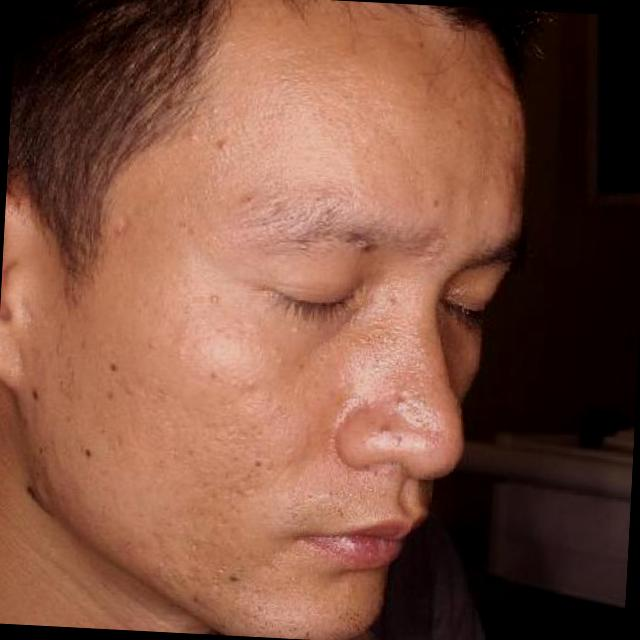blackhead: (244, 447, 276, 484), (75, 432, 105, 468), (102, 352, 132, 382), (220, 562, 248, 594), (24, 380, 50, 409)
nodules: (200, 282, 232, 312), (262, 342, 292, 372), (210, 134, 238, 160), (177, 124, 207, 146), (201, 100, 226, 126), (384, 292, 404, 316)
